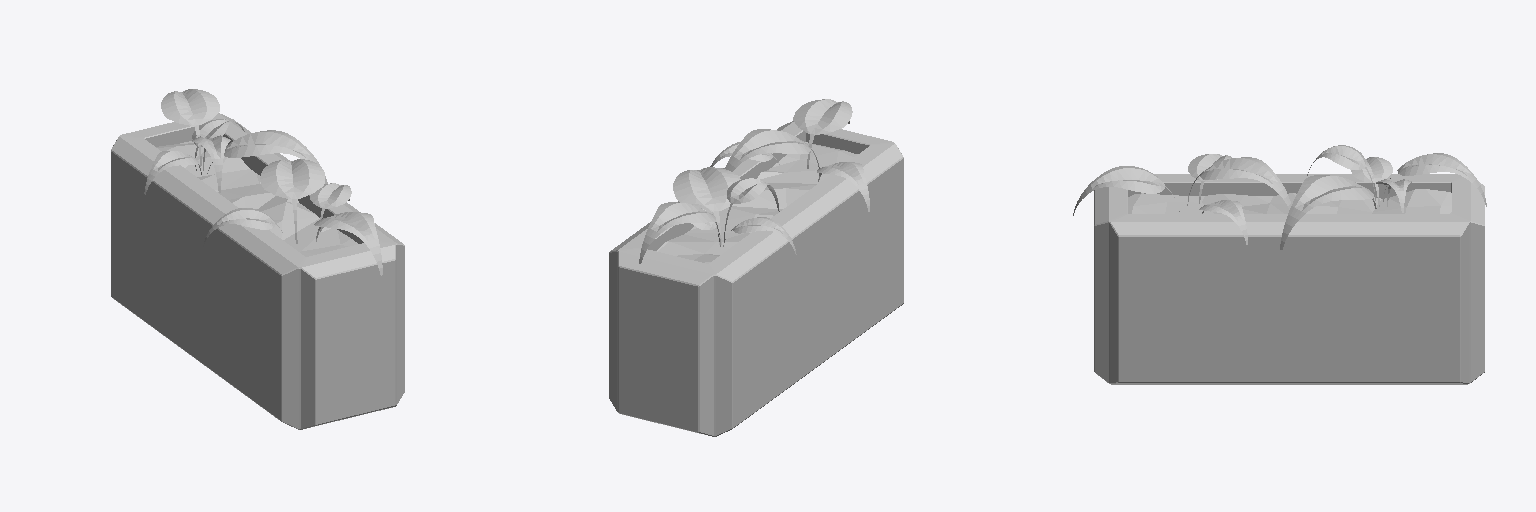
The model's file is plantContainer_big.obj.
3 renders of one model, left to right at view 1: azimuth 30°, elevation 25°; view 2: azimuth 150°, elevation 25°; view 3: azimuth 270°, elevation 25°, orthographic.
Parts seen in each view (by area): view 1: plants_container_big, Plants; view 2: plants_container_big, Plants; view 3: plants_container_big, Plants.
Boxes of the visible parts, x1,y1,x2,y2 form: plants_container_big: [111, 113, 404, 429]; Plants: [144, 89, 382, 275]; plants_container_big: [609, 121, 903, 436]; Plants: [639, 99, 869, 263]; plants_container_big: [1094, 174, 1484, 384]; Plants: [1073, 145, 1486, 249].
Size of the model in its own units: 0.9957 by 1.24 by 2.3.